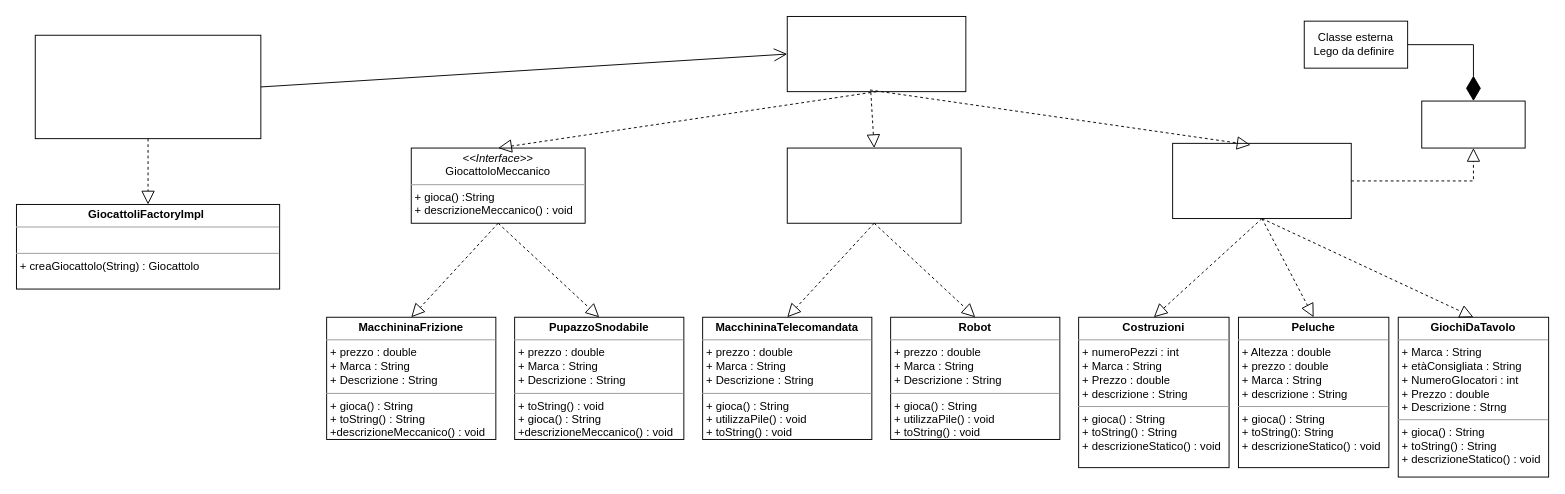
The diagram is 1565 pixels wide and 494 high, and some of its shapes have lost their labels. The shapes that lost their labels are listed below. From the top down, each one's centre as x and y in pixels, then its label:
point (876, 54): <<Interface>> Giocattolo + gioca() :String
point (147, 86): <<Interface>> GiocattoliFactory + creaGiocattolo(String) : Giocattolo
point (1473, 124): Adapter
point (873, 185): <<Interface>> GiocattoloElettrico + gioca() :String + utilizzaPile() : void
point (1261, 180): <<Interface>> GiocattoloStatico + gioca() :String + descrizioneStatico() : void
